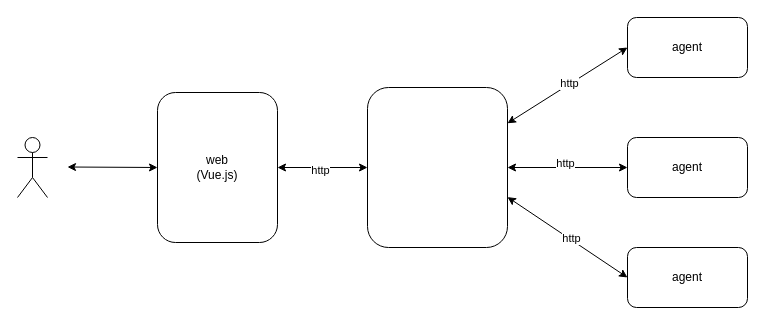
This 765x325 diagram has some shape labels left out. Here are the shapes that lost their labels. From the top down, the centre of each, then its label:
the point at 32,167: Actor
the point at 437,167: orchestrator
